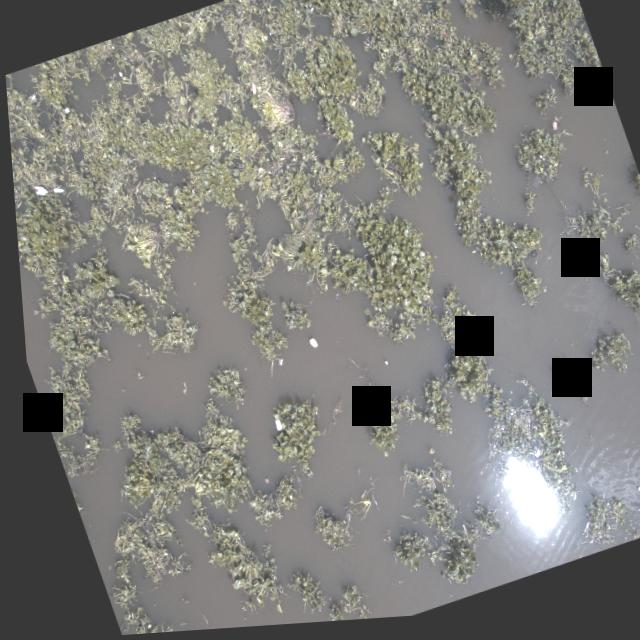plastic: (294, 332, 319, 362), (261, 416, 281, 442), (29, 181, 48, 203), (523, 179, 541, 199), (48, 182, 65, 200), (245, 83, 258, 100), (544, 125, 558, 139), (59, 105, 70, 116), (27, 92, 38, 103), (440, 37, 450, 48), (425, 7, 434, 17), (135, 623, 144, 631)
